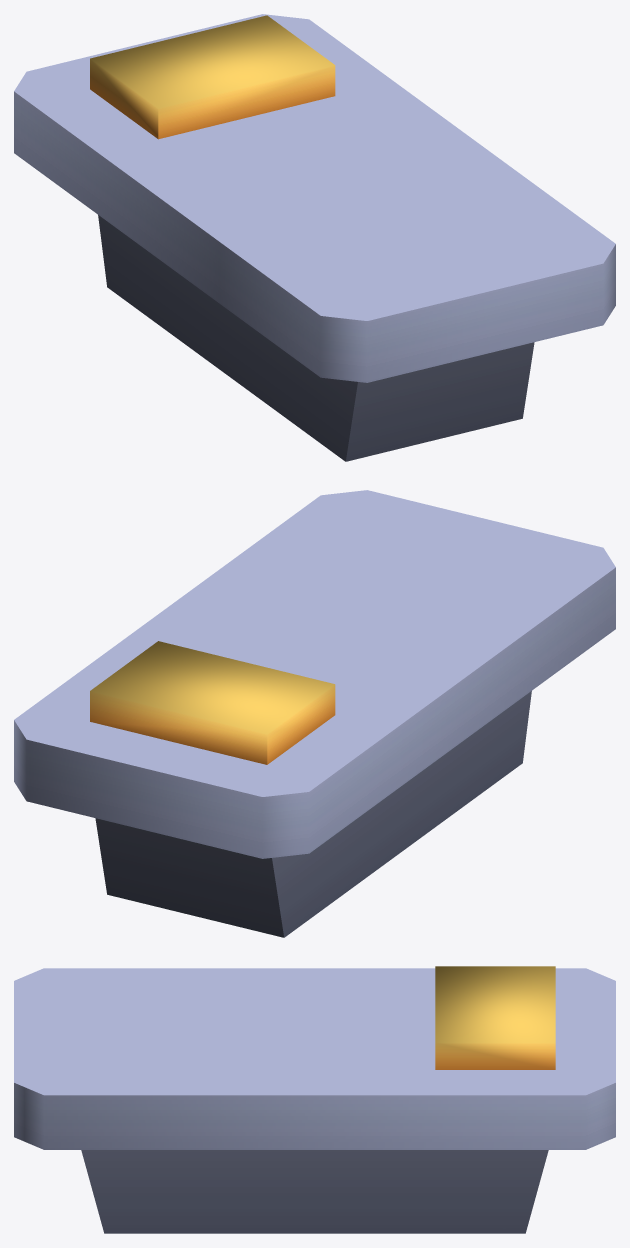
Rendered from station.bed_single.glb.
The picture shows the model from 3 angles, top to bottom: view 1: azimuth 30°, elevation 25°; view 2: azimuth 150°, elevation 25°; view 3: azimuth 270°, elevation 25°; orthographic projection. The views are drawn at different scales.
Visible parts, largest first — view 1: bed-single; view 2: bed-single; view 3: bed-single.
Part boxes in pixels (x1,y1,x2,y2): bed-single: [14, 14, 615, 461]; bed-single: [14, 490, 615, 937]; bed-single: [14, 966, 615, 1233].
Size of the model in its own units: 0.8638 by 0.6046 by 1.73.
Materials: 1 (1 with a texture image).
